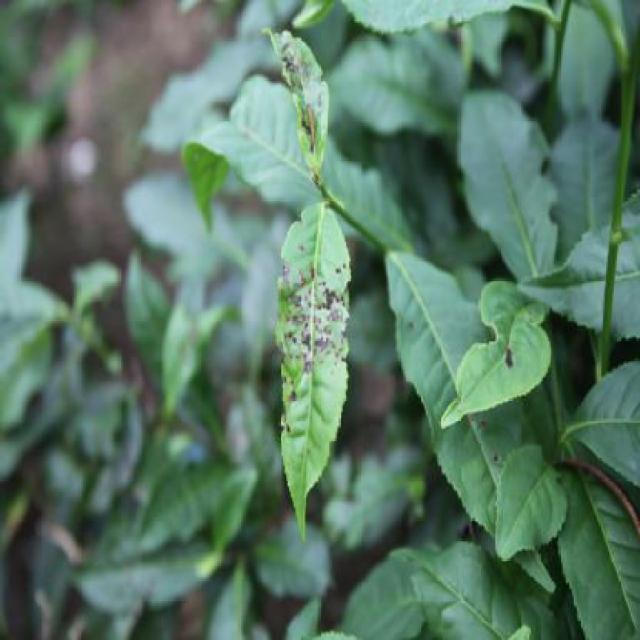Tea Mosquito bug infested leaf: (272, 173, 360, 522), (280, 17, 343, 166)
